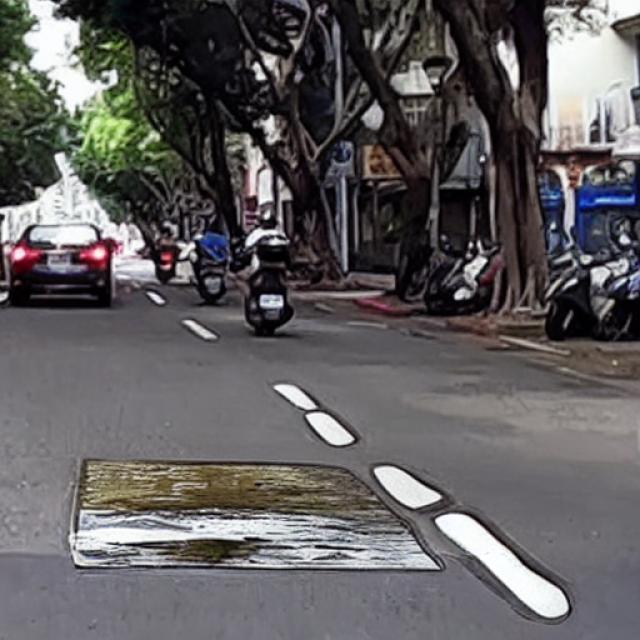puddle: (73, 459, 431, 573)
